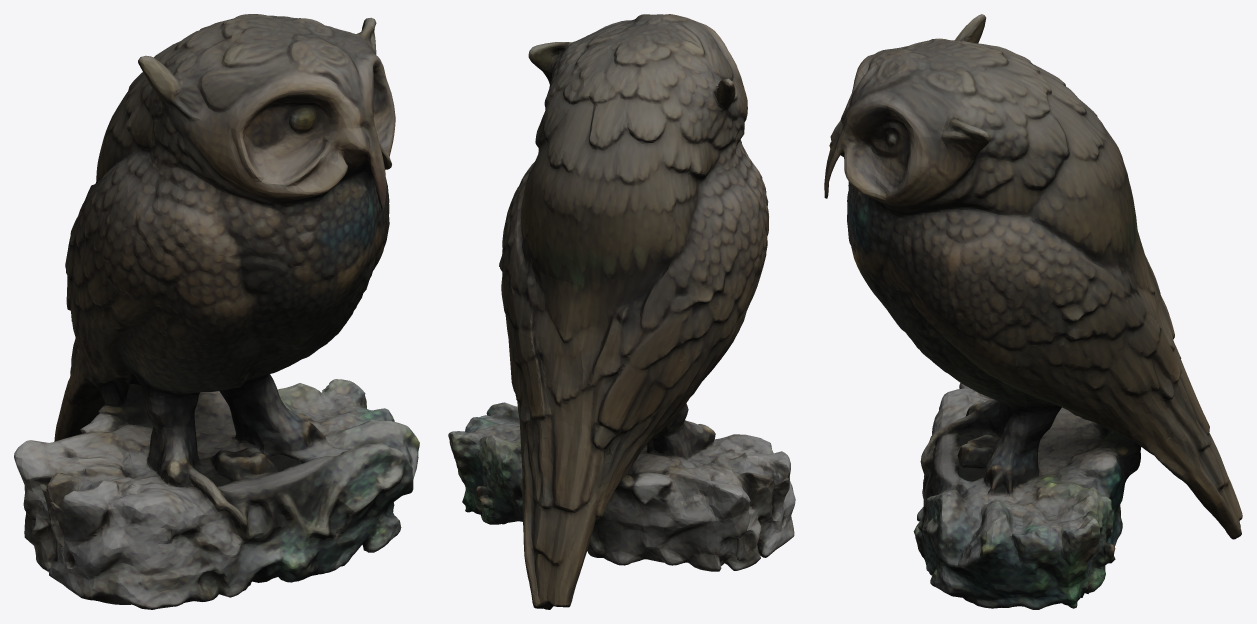
The model's file is std_trellis_owl.glb.
3 views of the same model, side by side, from view 1: azimuth 30°, elevation 25°; view 2: azimuth 150°, elevation 25°; view 3: azimuth 270°, elevation 25° (orthographic). The views are drawn at different scales.
Visible parts, largest first — view 1: world; view 2: world; view 3: world.
Boxes of the visible parts, bbox=[...] form: world: bbox=[14, 14, 419, 609]; world: bbox=[448, 14, 795, 609]; world: bbox=[824, 14, 1242, 609].
Bounding box in the file's own units: 0.6772 × 0.996 × 0.7533.
Materials: 1 (1 with a texture image).
